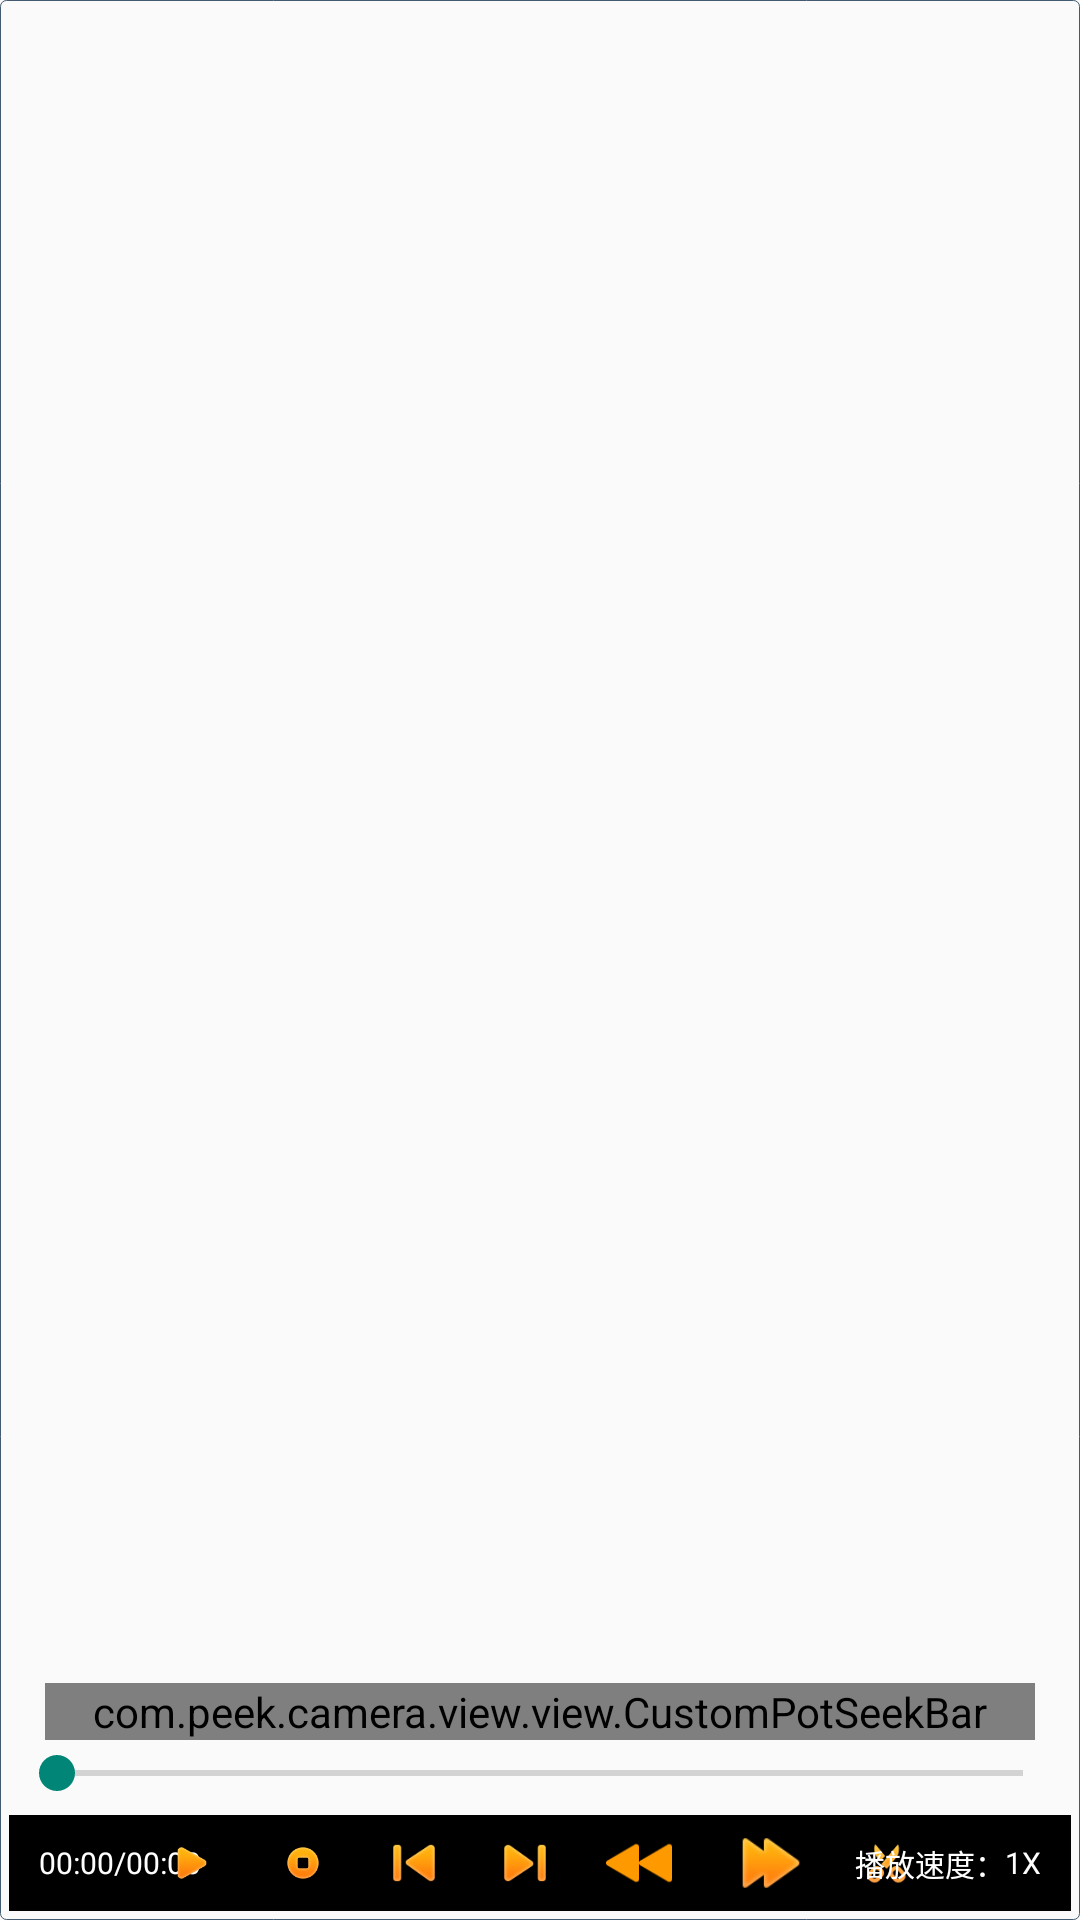

Named icons in this screenshot (1080px x 1920px) and their bounding boxes, bbox(x1, y1, x2, y2):
play fast: bbox(742, 1838, 800, 1888)
play last: bbox(393, 1844, 435, 1882)
play next: bbox(504, 1844, 546, 1882)
play slow: bbox(606, 1843, 672, 1883)
play stop: bbox(287, 1847, 319, 1879)
